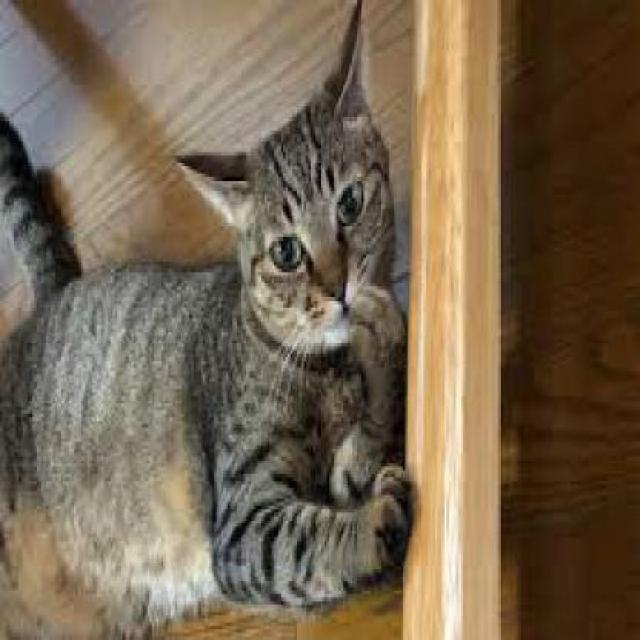cat: (3, 1, 422, 634)
